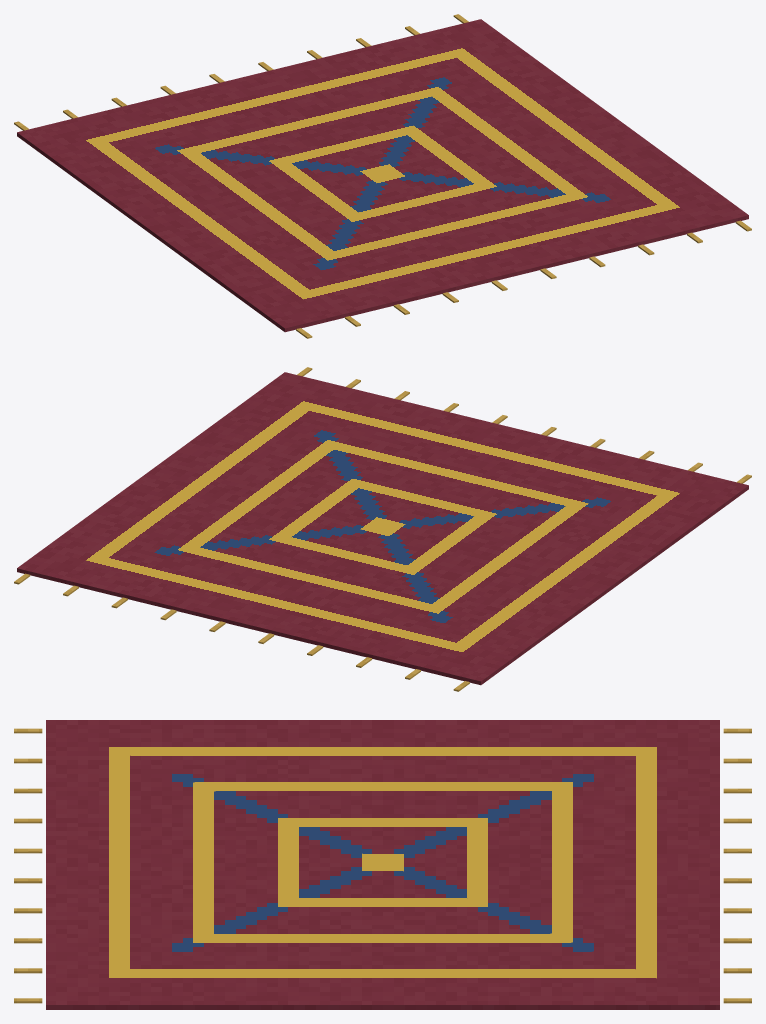
File: rug.glb
3 views of the same model, one above another, from view 1: azimuth 30°, elevation 25°; view 2: azimuth 150°, elevation 25°; view 3: azimuth 270°, elevation 25° (orthographic). The views are drawn at different scales.
Parts seen in each view (by area): view 1: body; view 2: body; view 3: body.
Part boxes in pixels (x1,y1,x2,y2): body: [14, 14, 751, 338]; body: [14, 367, 751, 691]; body: [14, 720, 751, 1009].
Bounding box in the file's own units: 1.9 × 0.015 × 2.08.
2 materials, 2 textured.
